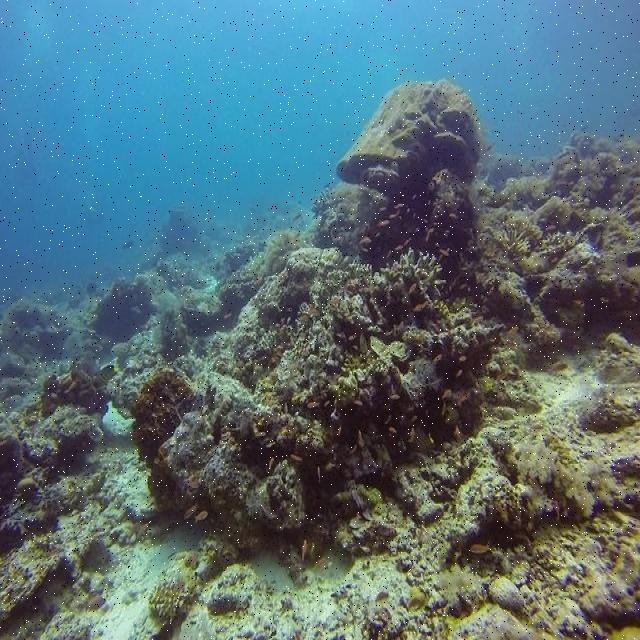aquatic plants: (469, 132, 639, 271)
sea-floor: (0, 80, 639, 640)
